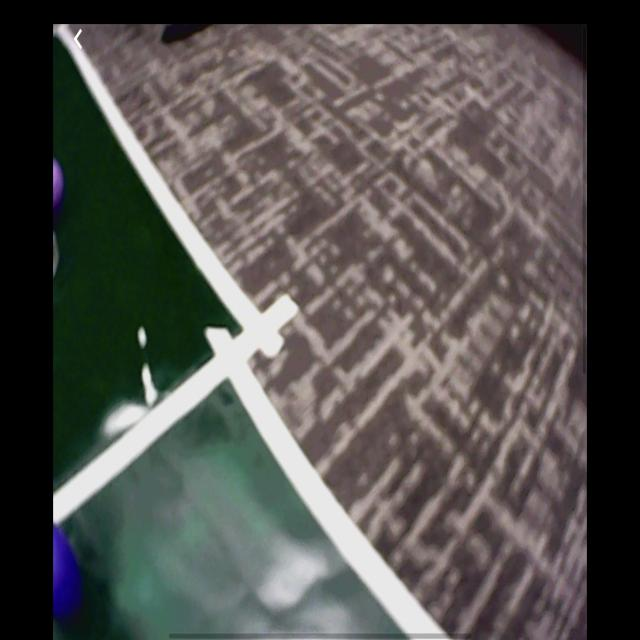ball: (54, 530, 82, 624), (54, 160, 64, 214)
